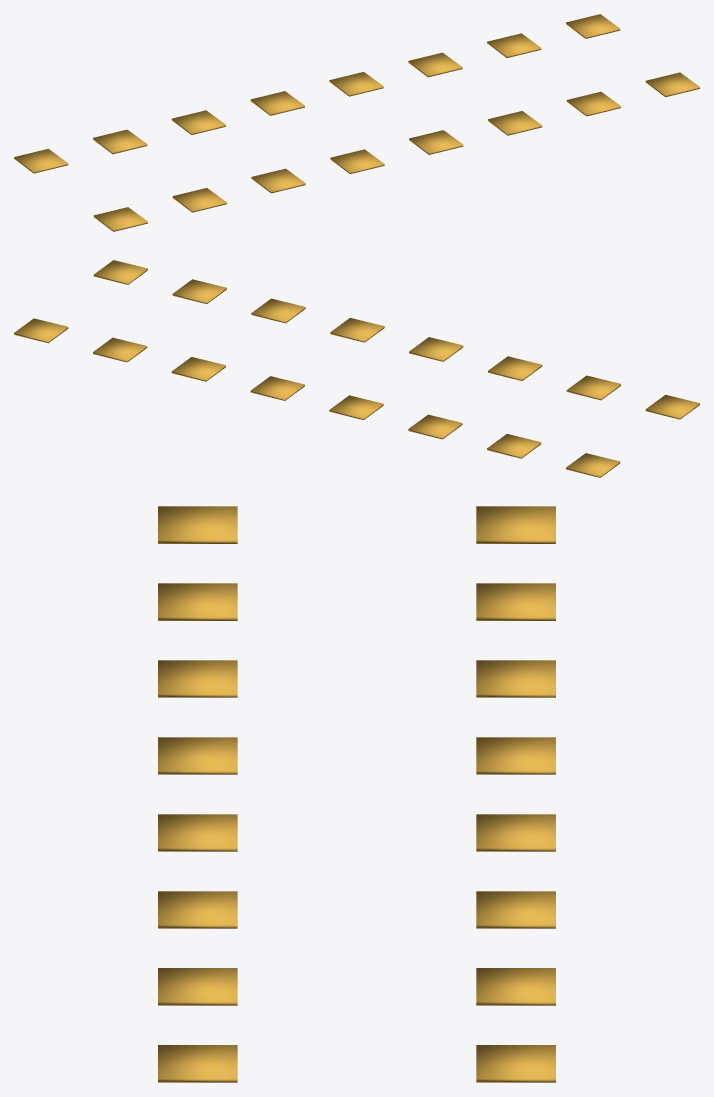
The model's file is 122_L105_LaneTestPads.fbx.
The picture shows the model from 3 angles, top to bottom: view 1: azimuth 30°, elevation 25°; view 2: azimuth 150°, elevation 25°; view 3: azimuth 270°, elevation 25°; orthographic projection. The views are drawn at different scales.
Parts seen in each view (by area): view 1: LaneTestPads_gold; view 2: LaneTestPads_gold; view 3: LaneTestPads_gold.
Part boxes in pixels (bbox=[...]): LaneTestPads_gold: bbox=[14, 14, 699, 231]; LaneTestPads_gold: bbox=[14, 260, 699, 477]; LaneTestPads_gold: bbox=[158, 506, 555, 1082].
Bounding box in the file's own units: 0.0255 × 8e-05 × 0.0075.
